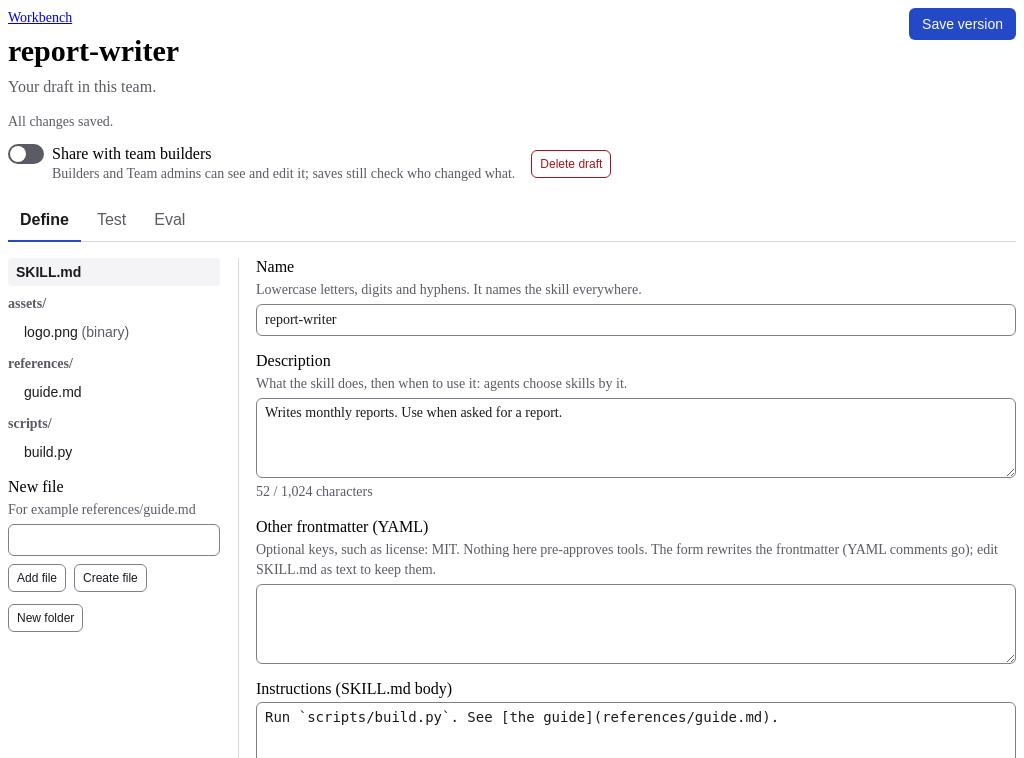
Test case: Workbench editor: Create file and New folder (KOBE-478) › shows the server's refusal (size, rules) and keeps the editor open
This screenshot has width=1024, height=758.
Expected: the field showing "report-writer" is shown, x1=256 y1=304 x2=1016 y2=336
Click the button "Create file" at (110, 578), box x1=74 y1=564 x2=147 y2=592
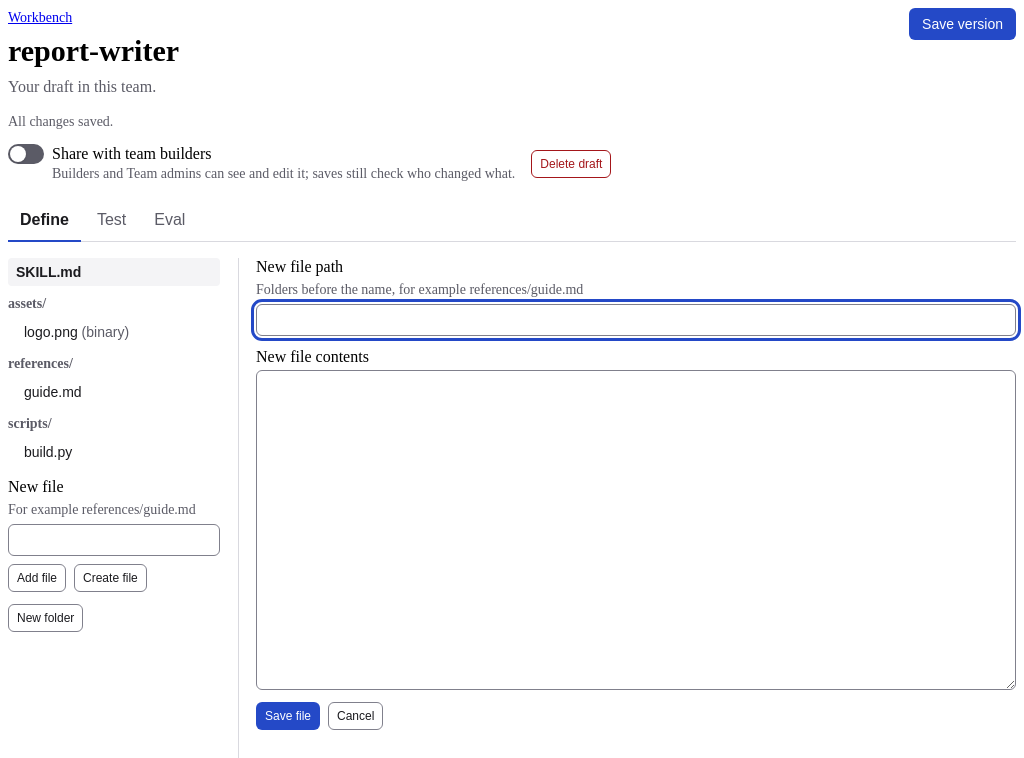
Type "big.md" into the field labelled "New file path" at (636, 320), box x1=256 y1=304 x2=1016 y2=336
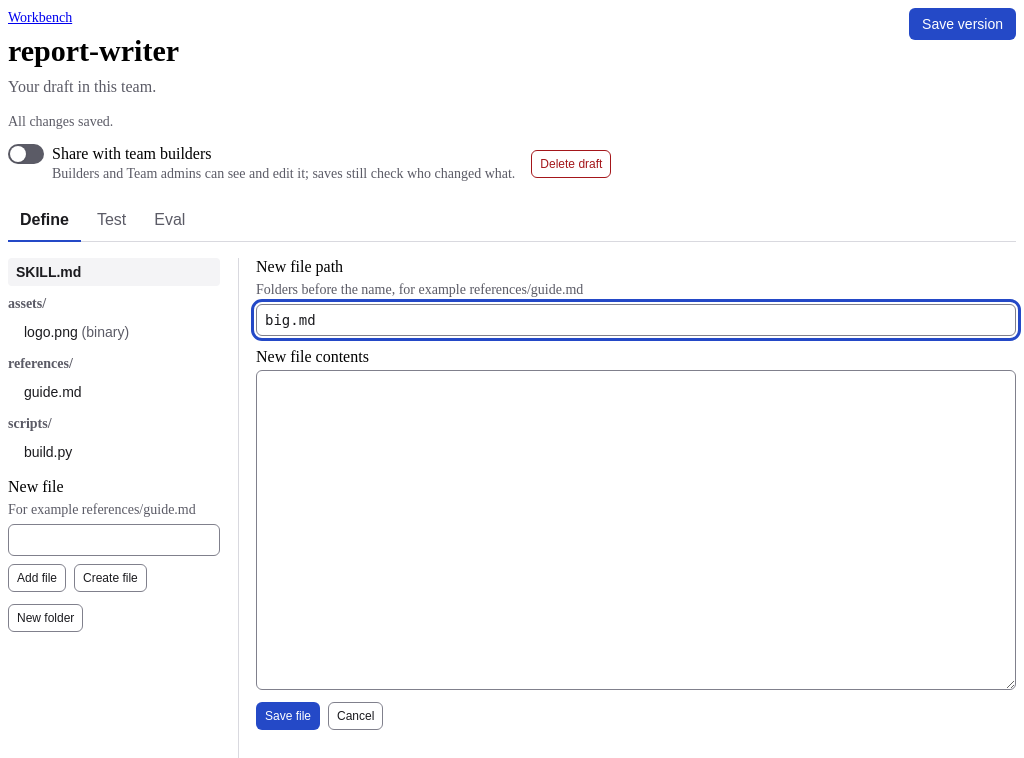
Click the button "Save file" at (288, 716), box x1=256 y1=702 x2=320 y2=730
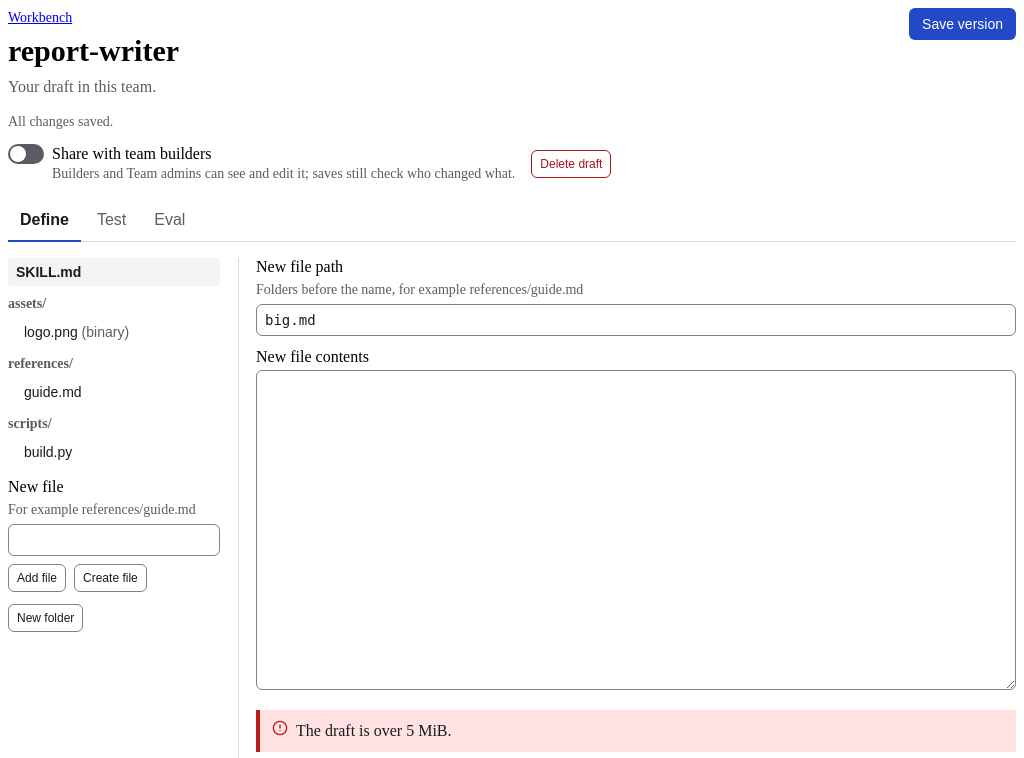
Now the text "The draft is over 5 MiB." is shown, box x1=296 y1=722 x2=452 y2=738
